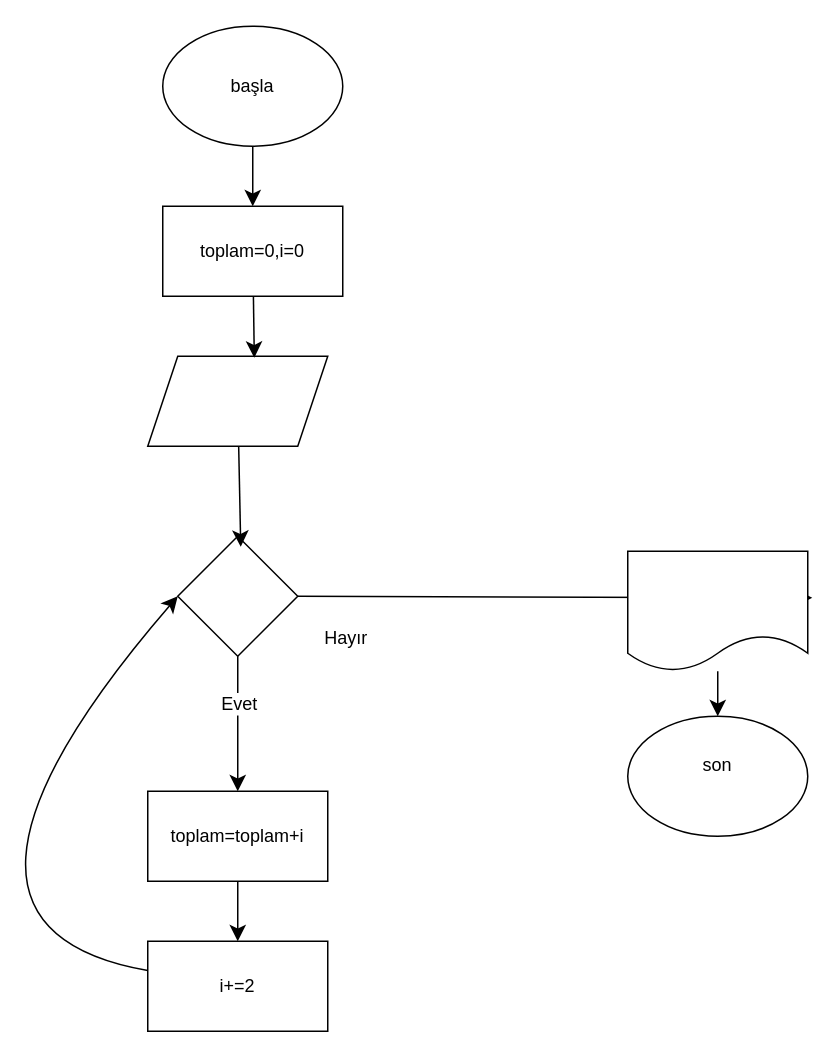
This 839x1058 diagram has some shape labels left out. Here are the shapes that lost their labels. From the top down, the centre of each, then its label:
(x=237, y=400): n sayısını oku
(x=237, y=595): i<=n
(x=717, y=610): toplam
